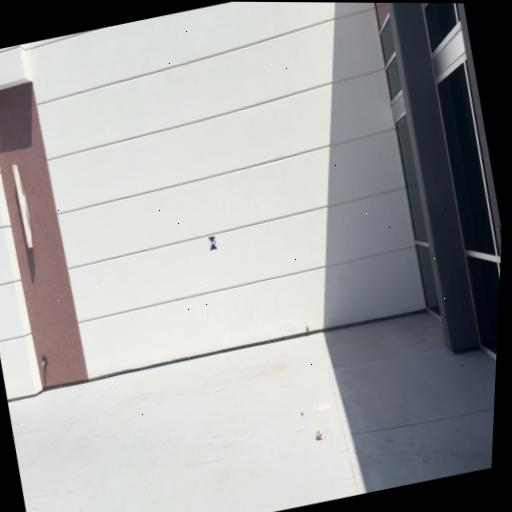target7: (207, 236, 219, 251)
